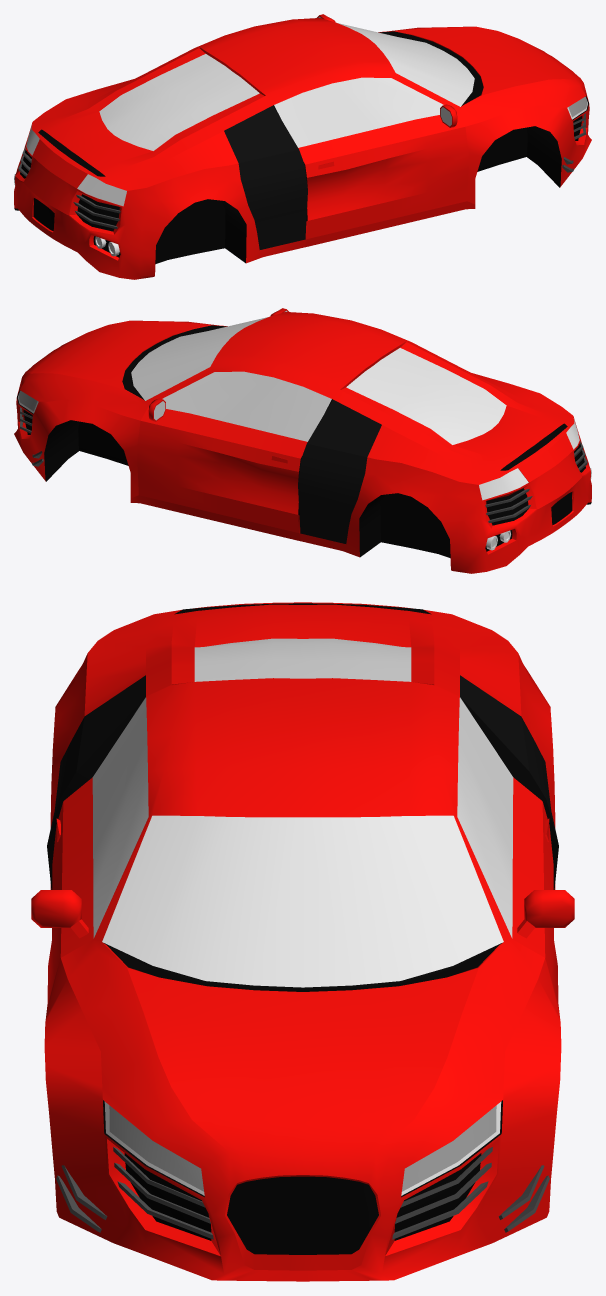
Rendered from A_R7_Body_2.glb.
The picture shows the model from 3 angles, top to bottom: view 1: azimuth 30°, elevation 25°; view 2: azimuth 150°, elevation 25°; view 3: azimuth 270°, elevation 25°; orthographic projection. The views are drawn at different scales.
Visible parts, largest first — view 1: Cube; view 2: Cube; view 3: Cube.
Boxes of the visible parts, <box> form: Cube: <box>14,14,591,279</box>; Cube: <box>14,308,591,573</box>; Cube: <box>31,602,574,1281</box>.
Size of the model in its own units: 3.39 by 0.8968 by 1.51.
